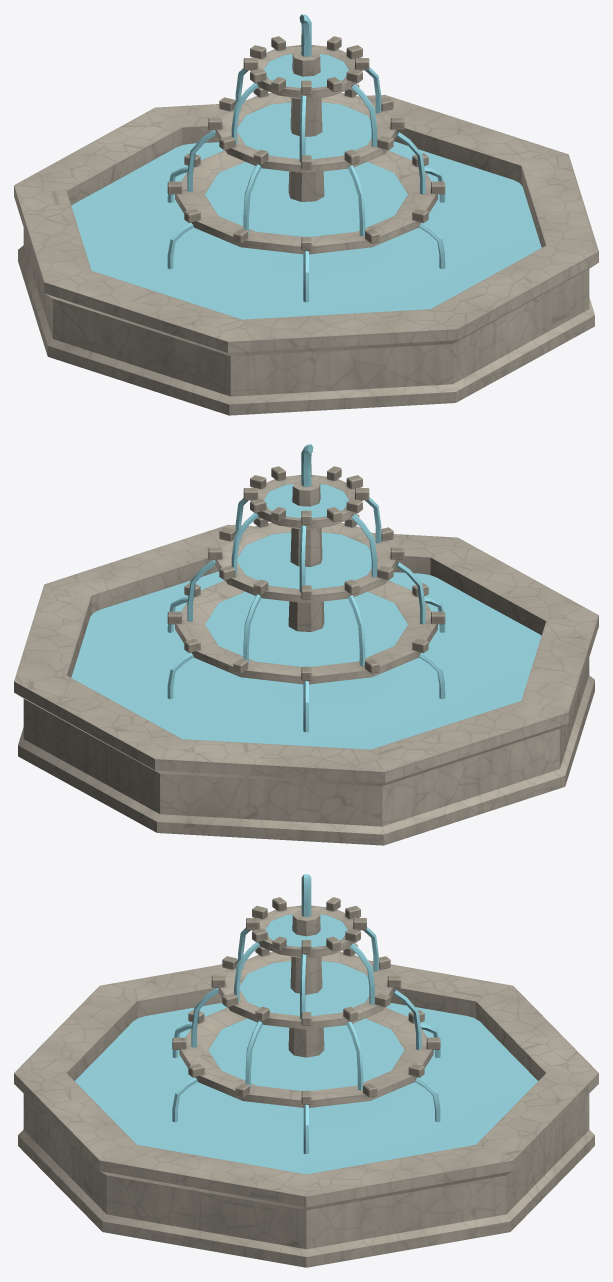
File: fuente_plaza.fbx
3 views of the same model, one above another, from view 1: azimuth 30°, elevation 25°; view 2: azimuth 150°, elevation 25°; view 3: azimuth 270°, elevation 25° (orthographic). The views are drawn at different scales.
Parts seen in each view (by area): view 1: fuente_plaza, fuente_plaza_agua_cristal; view 2: fuente_plaza, fuente_plaza_agua_cristal; view 3: fuente_plaza, fuente_plaza_agua_cristal.
Part boxes in pixels (left/top/right/bottom): fuente_plaza: left=14, top=34, right=598, bottom=415; fuente_plaza_agua_cristal: left=71, top=14, right=541, bottom=319; fuente_plaza: left=14, top=464, right=598, bottom=845; fuente_plaza_agua_cristal: left=71, top=444, right=541, bottom=749; fuente_plaza: left=14, top=897, right=598, bottom=1267; fuente_plaza_agua_cristal: left=75, top=874, right=537, bottom=1174.
Bounding box in the file's own units: 5.98 × 3.04 × 5.98.
Materials: 3 (1 with a texture image).
